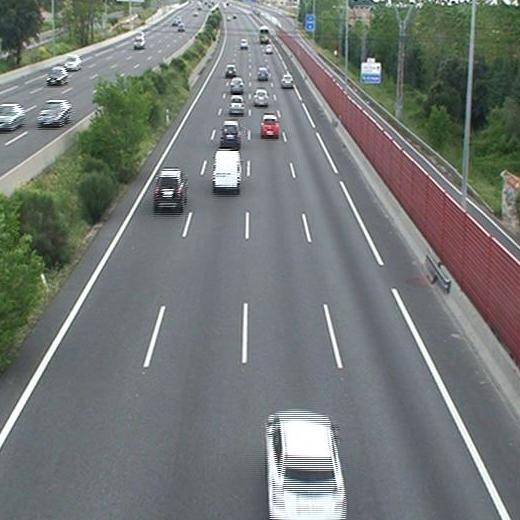bus: (260, 28, 269, 42)
car: (266, 415, 346, 520), (155, 171, 185, 207), (221, 122, 241, 146), (260, 116, 279, 136), (229, 96, 245, 114), (253, 90, 269, 106), (230, 78, 243, 92), (281, 75, 294, 87), (257, 69, 269, 79), (226, 66, 236, 77), (265, 45, 272, 54), (240, 39, 247, 48)
van: (213, 152, 241, 189)
